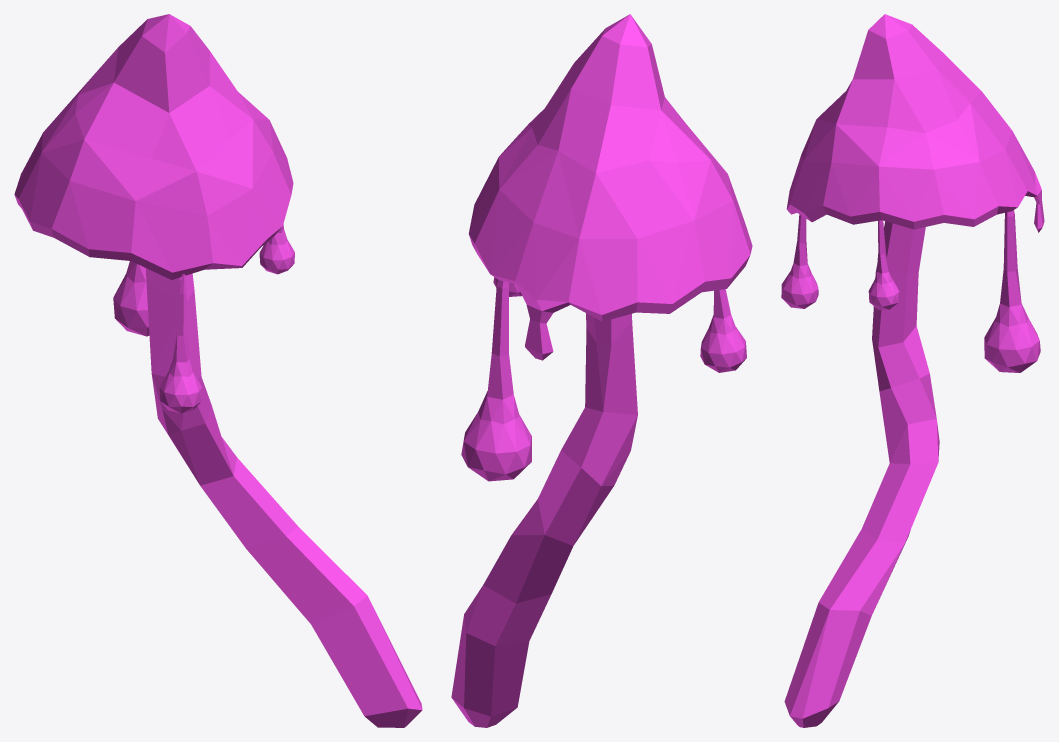
The model's file is SM_Mushroom_Drip_Giant_Single_B_Fantasy.fbx.
The picture shows the model from 3 angles, left to right: view 1: azimuth 30°, elevation 25°; view 2: azimuth 150°, elevation 25°; view 3: azimuth 270°, elevation 25°; orthographic projection. The views are drawn at different scales.
Visible parts, largest first — view 1: SM_Mushroom_Drip_Giant_Single_B_Fantasy; view 2: SM_Mushroom_Drip_Giant_Single_B_Fantasy; view 3: SM_Mushroom_Drip_Giant_Single_B_Fantasy.
Boxes of the visible parts, bbox=[...] form: SM_Mushroom_Drip_Giant_Single_B_Fantasy: bbox=[14, 14, 422, 727]; SM_Mushroom_Drip_Giant_Single_B_Fantasy: bbox=[451, 14, 752, 727]; SM_Mushroom_Drip_Giant_Single_B_Fantasy: bbox=[781, 14, 1044, 727].
Bounding box in the file's own units: 1.57 × 3.37 × 1.27.
